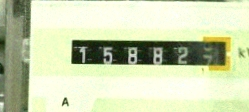1: (77, 44, 86, 62)
2: (176, 44, 188, 64)
5: (99, 44, 113, 63)
7: (200, 51, 212, 63)
8: (150, 43, 163, 64), (126, 44, 138, 64)
screen: (65, 30, 235, 74)
